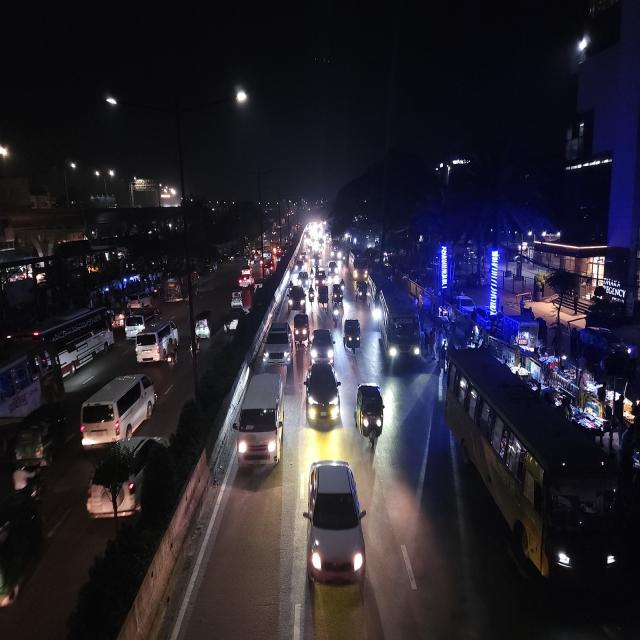bus: (441, 344, 624, 605), (29, 311, 119, 377), (0, 343, 59, 438), (375, 285, 421, 373)
car: (304, 458, 365, 586), (75, 367, 158, 439), (235, 369, 284, 470), (300, 358, 342, 428), (134, 319, 178, 369), (260, 314, 292, 368), (308, 322, 336, 363), (221, 311, 245, 344), (284, 285, 308, 310)
cng: (18, 409, 68, 479), (355, 382, 387, 450), (343, 315, 363, 356), (192, 307, 212, 345), (292, 309, 310, 344), (226, 285, 247, 313), (352, 279, 370, 305), (318, 283, 334, 310), (332, 281, 342, 306)
motorcycle: (165, 333, 180, 369)
